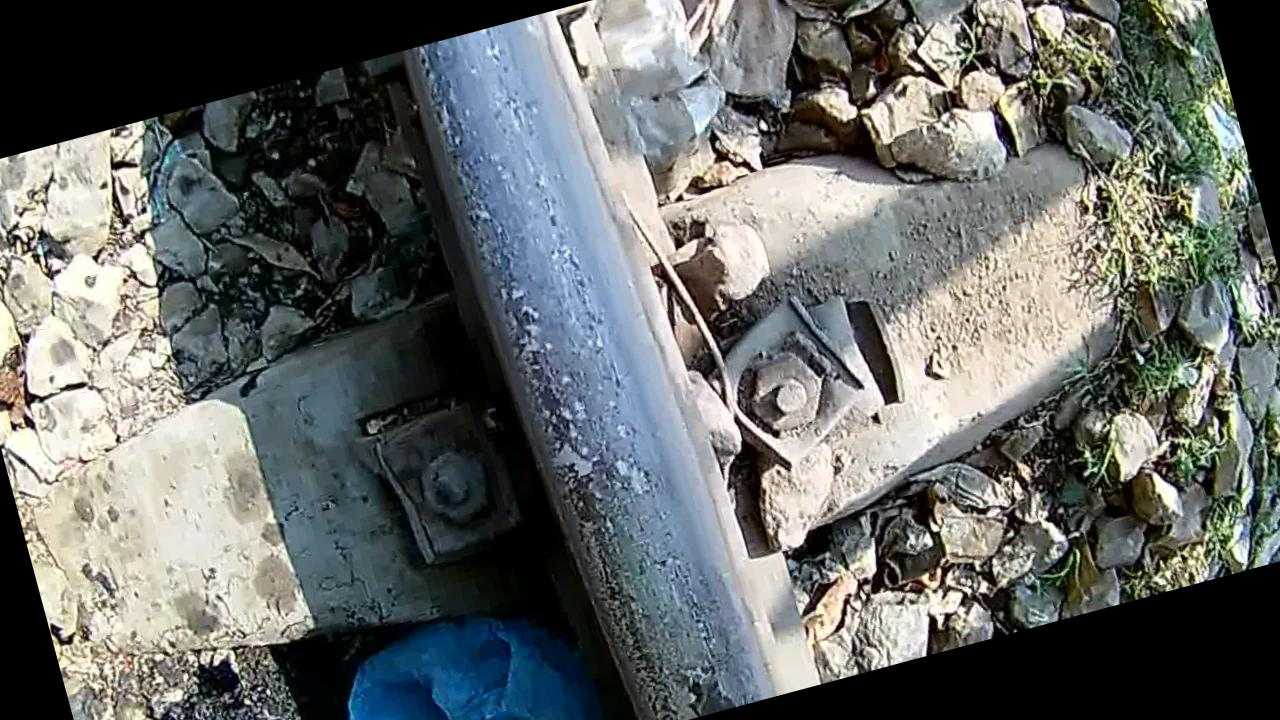clip_missing: (405, 3, 770, 720)
